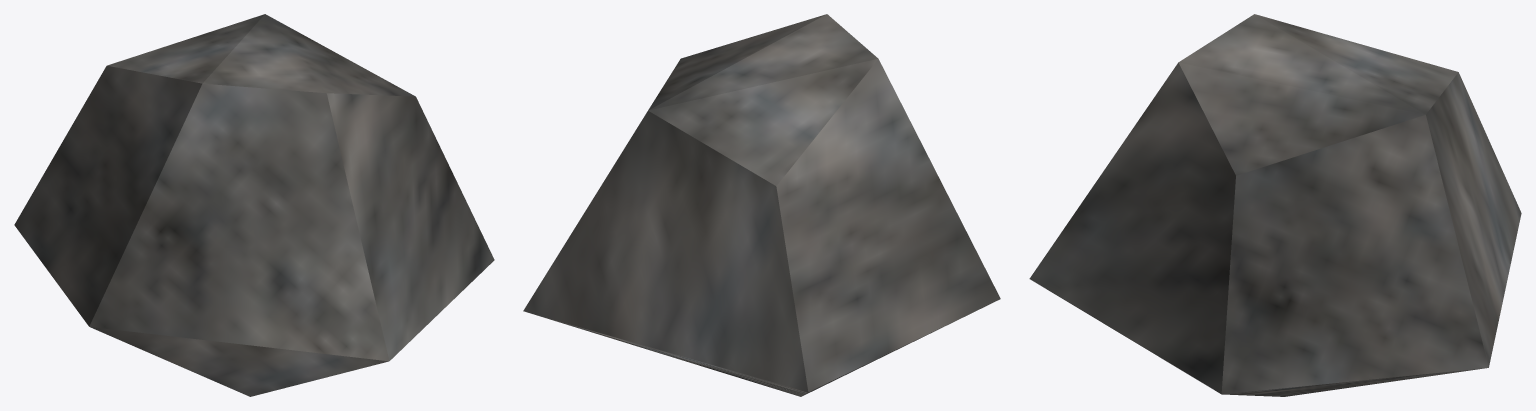
The model's file is smallrock.glb.
3 renders of one model, left to right at view 1: azimuth 30°, elevation 25°; view 2: azimuth 150°, elevation 25°; view 3: azimuth 270°, elevation 25°, orthographic. The views are drawn at different scales.
Parts seen in each view (by area): view 1: Cube; view 2: Cube; view 3: Cube.
Boxes of the visible parts, <box> form: Cube: <box>14,14,494,396</box>; Cube: <box>523,14,1000,396</box>; Cube: <box>1029,14,1521,396</box>.
Size of the model in its own units: 0.6746 by 0.5556 by 0.7051.
Materials: 1 (1 with a texture image).
